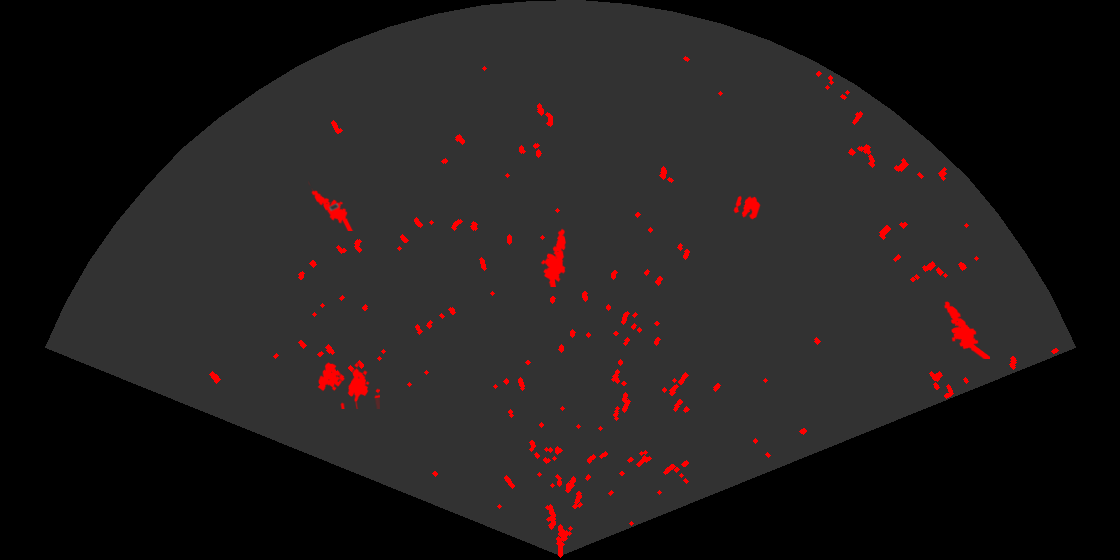ball: (732, 194, 762, 221)
cage: (316, 361, 380, 409)
frogman: (942, 300, 990, 359), (308, 180, 354, 231), (539, 227, 567, 287)
